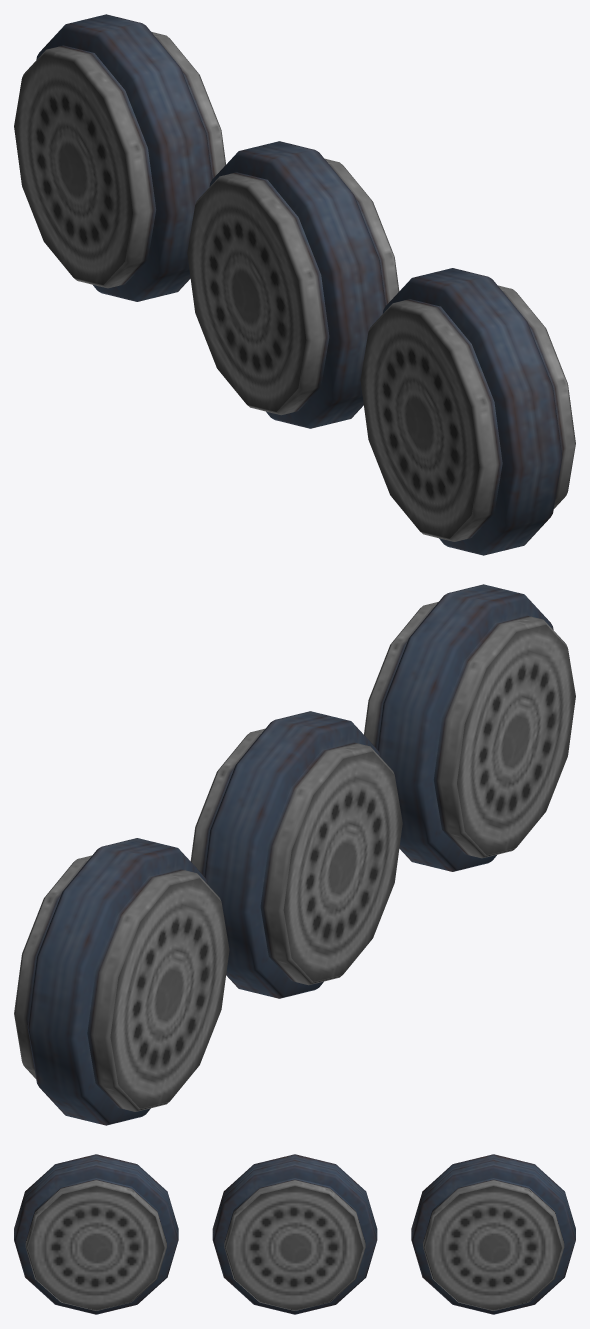
The model's file is Pipe3_Connect2_L0.fbx.
3 views of the same model, one above another, from view 1: azimuth 30°, elevation 25°; view 2: azimuth 150°, elevation 25°; view 3: azimuth 270°, elevation 25° (orthographic). The views are drawn at different scales.
Visible parts, largest first — view 1: PIpe3_Connect2_L0; view 2: PIpe3_Connect2_L0; view 3: PIpe3_Connect2_L0.
Part boxes in pixels (x1,y1,x2,y2): PIpe3_Connect2_L0: [14, 14, 575, 555]; PIpe3_Connect2_L0: [14, 584, 575, 1125]; PIpe3_Connect2_L0: [14, 1154, 575, 1314].
Size of the model in its own units: 5.35 by 13.8 by 47.12.
